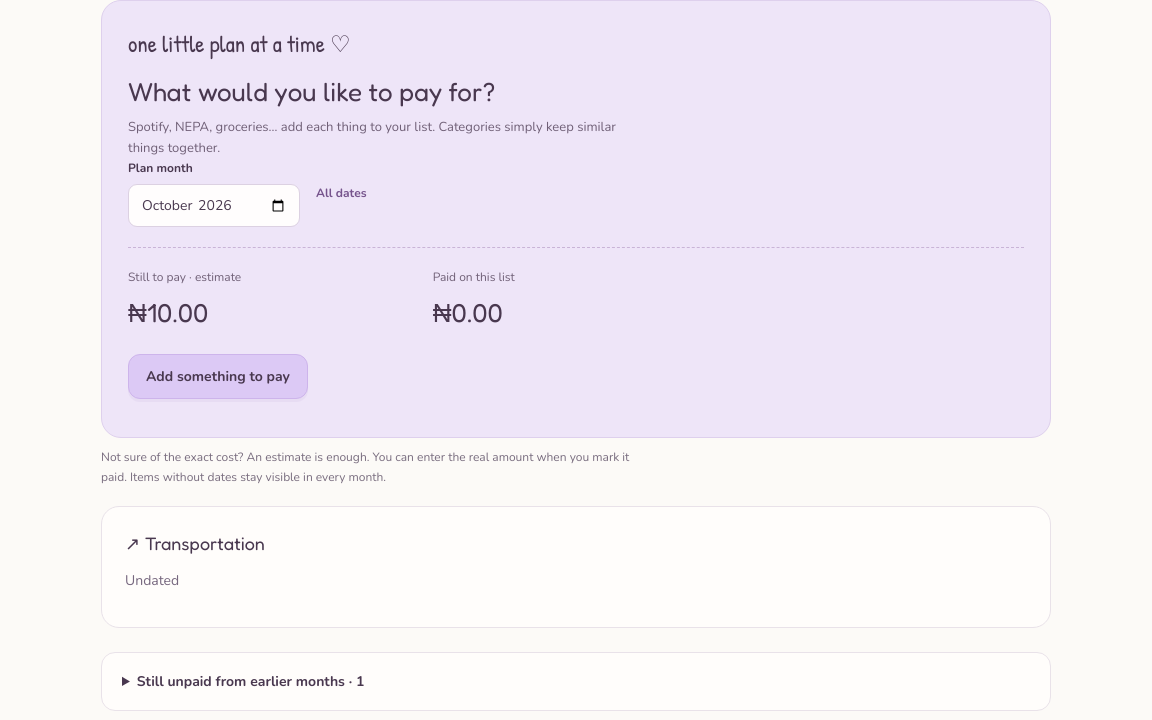
Test: keeps undated items visible and lets users recover earlier unpaid plans
Expected: the text "Undated" is shown, [125,571,179,590]
Expected: the text "Future" is not shown
Step 1. Click the heading "Still unpaid from earlier months · 1" → (251, 682), box [137,672,364,691]
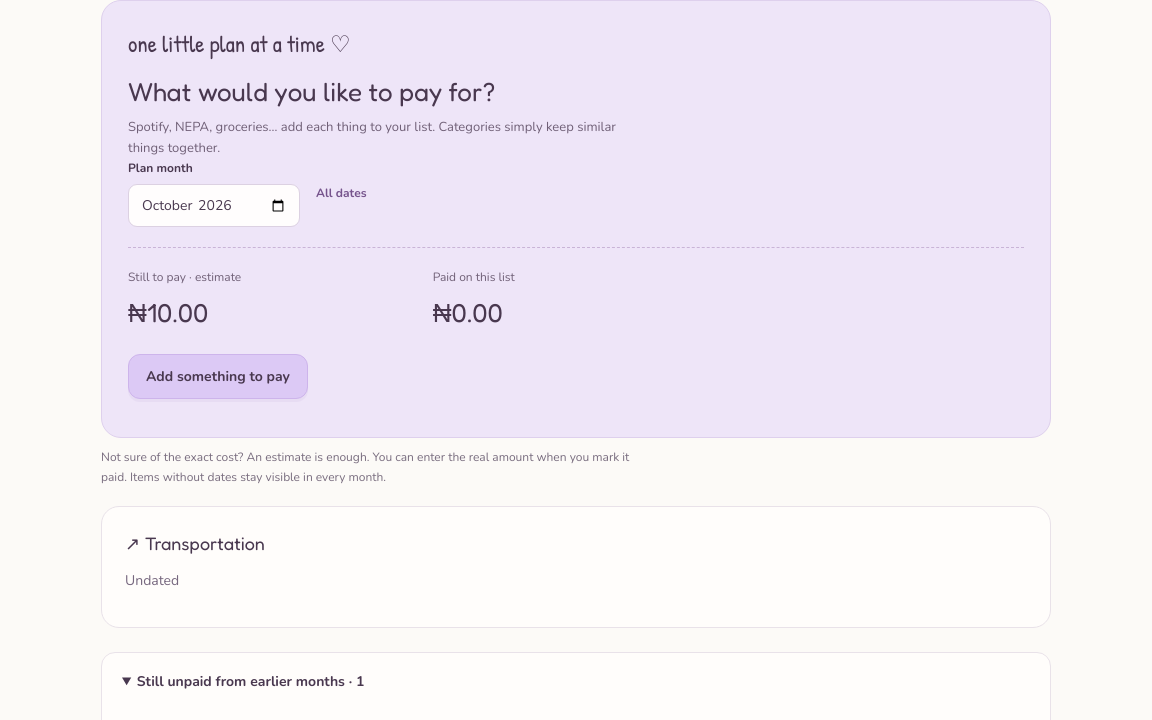
Step 2. Click the button "Add something to pay" → (218, 377), box [128,354,308,399]
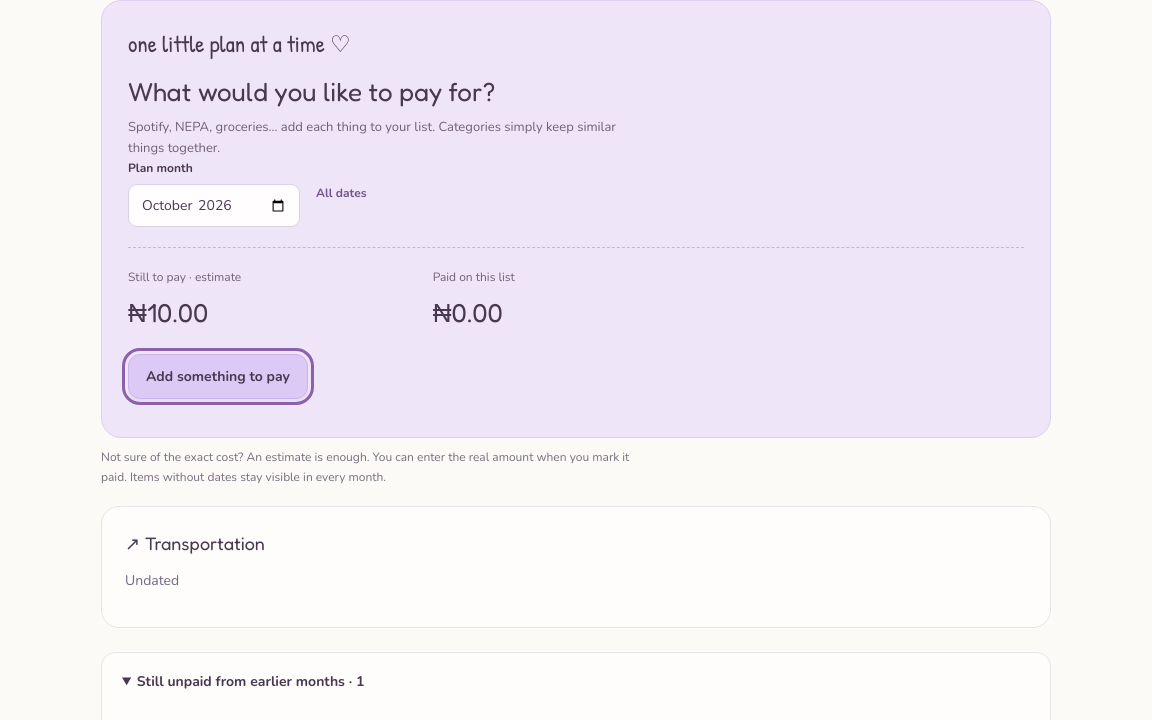
Step 3. Click the button "All dates" → (341, 193), box [316,178,366,208]
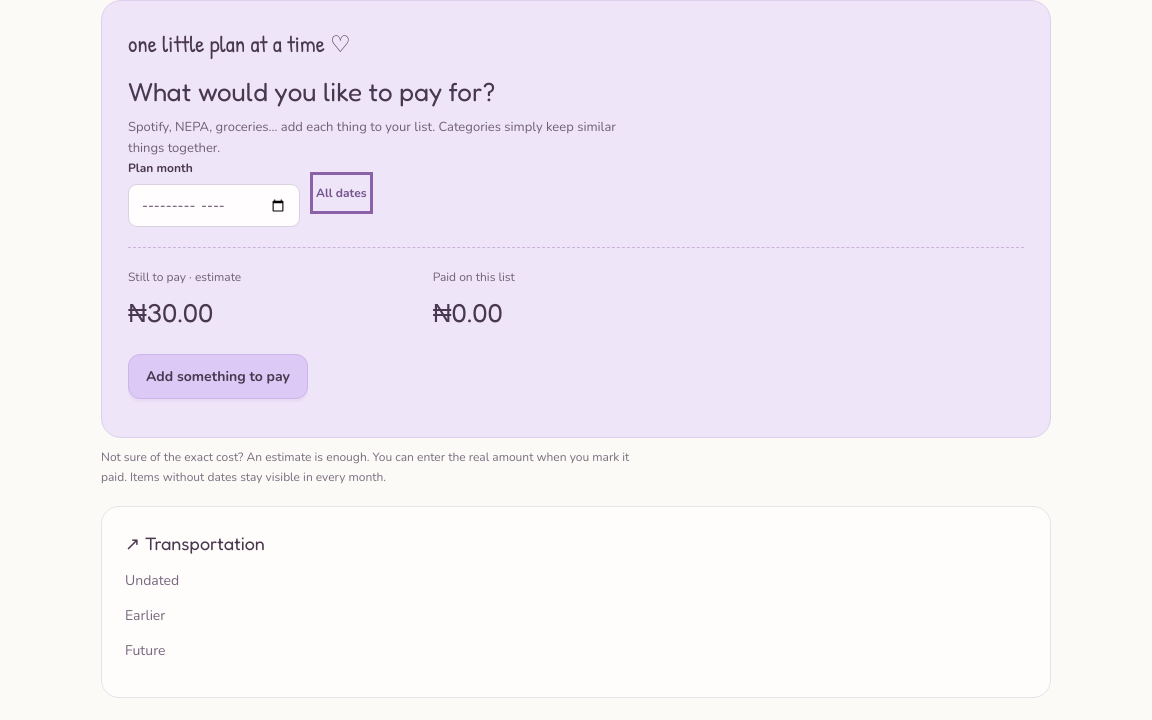
Expected: the text "Future" is shown, [125,641,166,660]
